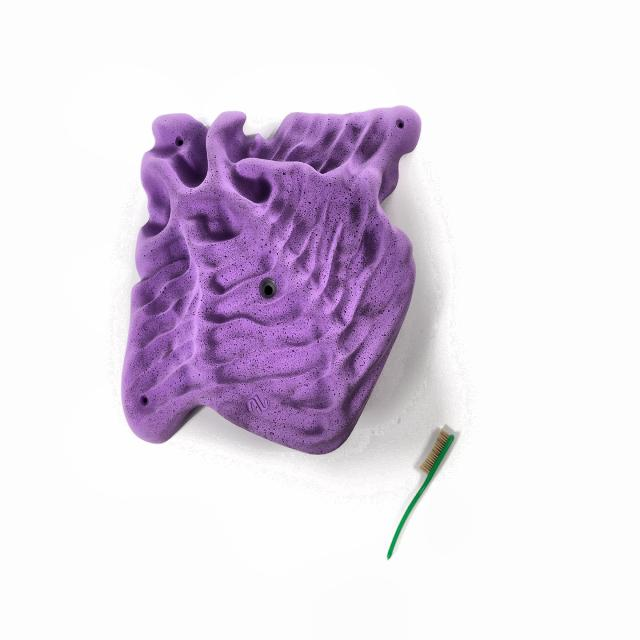Hold: (119, 107, 417, 449)
